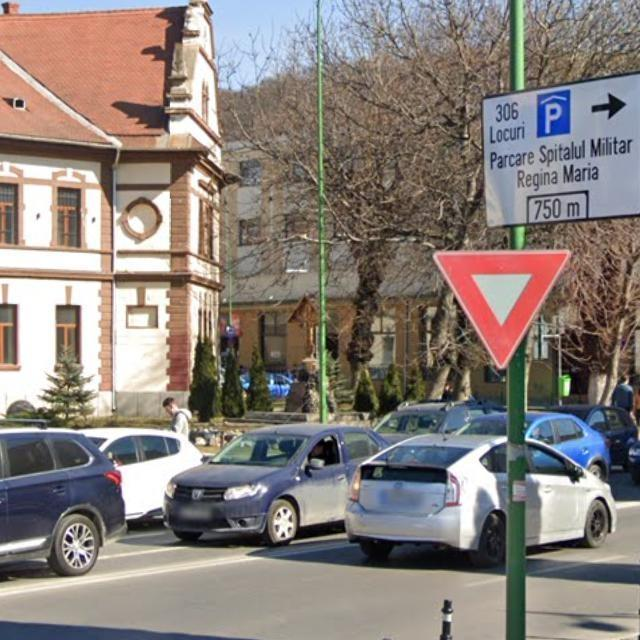prio_give_way: (431, 248, 570, 370)
